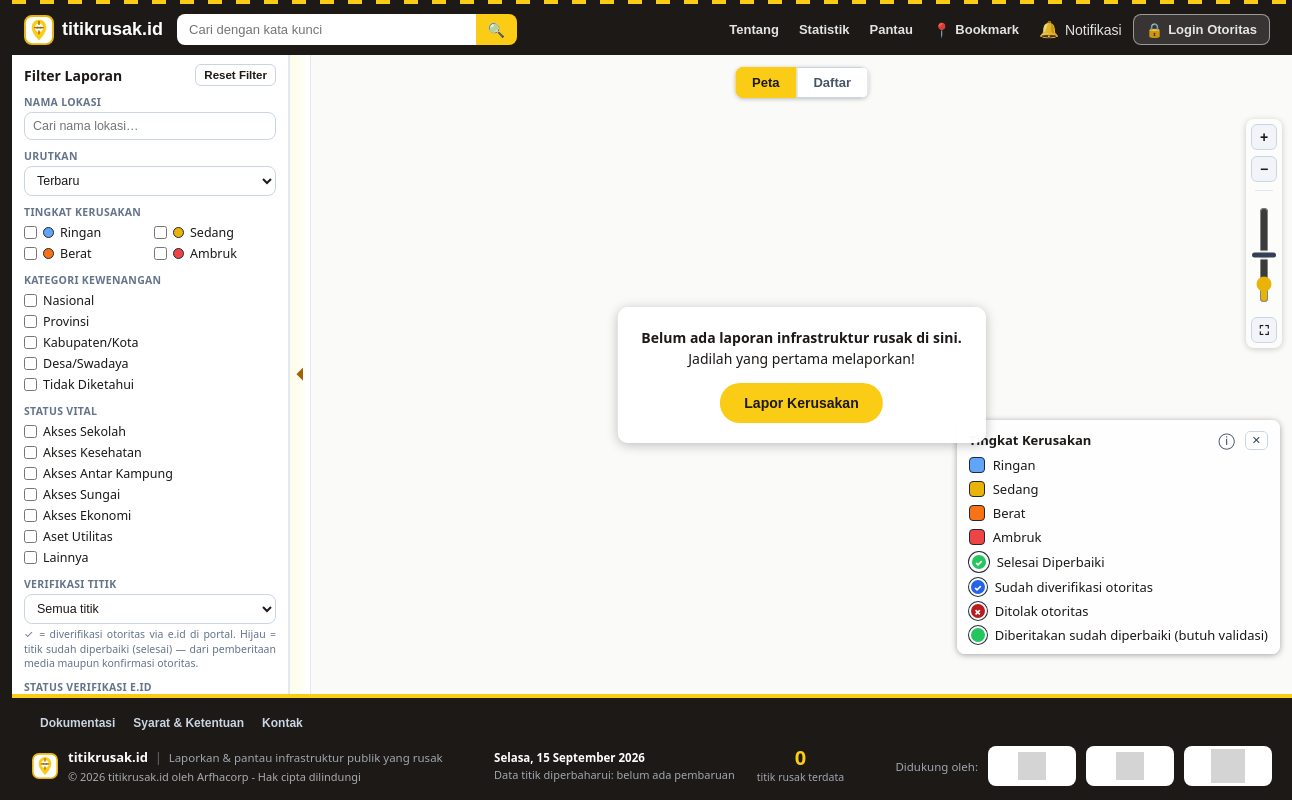
Test: App: alur lapor kerusakan end-to-end › sidebar filter desktop bisa disembunyikan dan dimunculkan lagi
Expected: the heading "Filter Laporan" is shown, [24,66,122,84]
Click the button named "sembunyikan panel filter" at (300, 374), box [289,55,311,694]
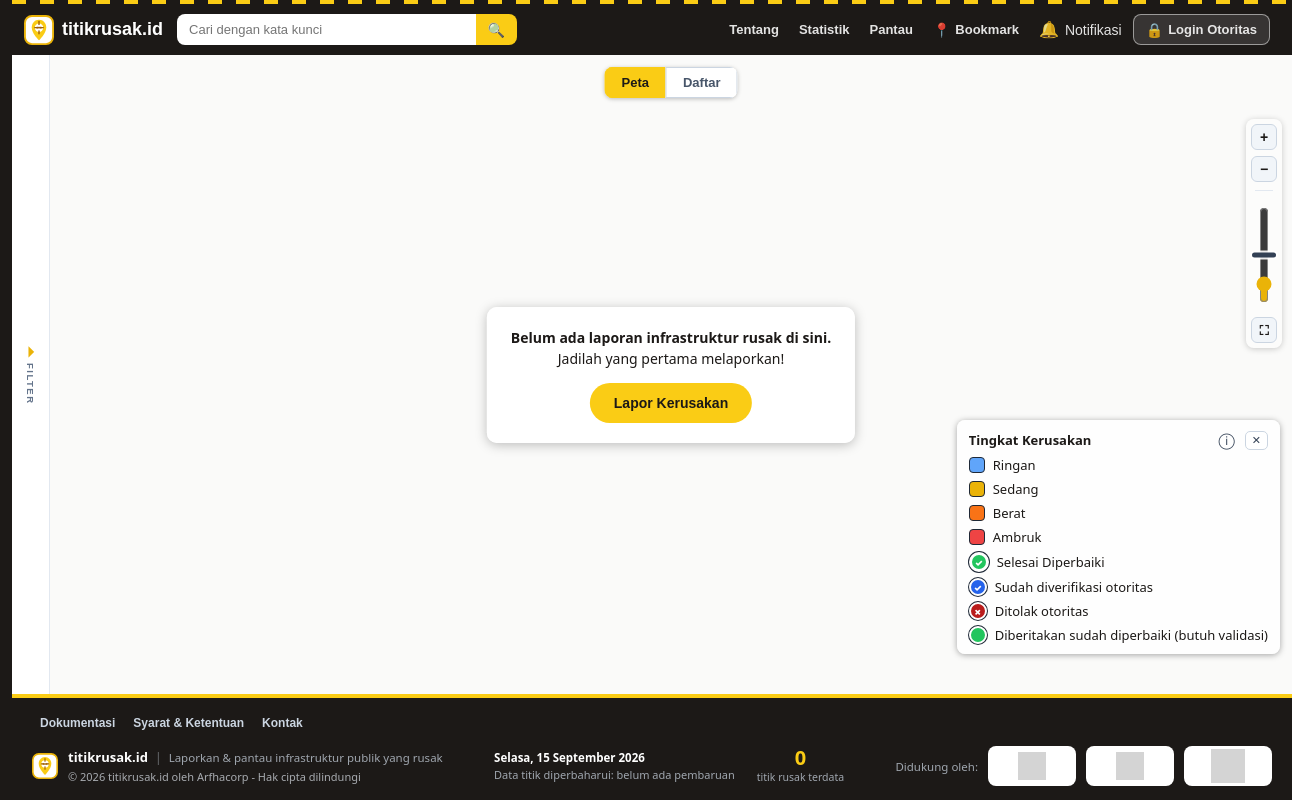
Result: the heading "Filter Laporan" is gone
Click the button with aria-label "tampilkan panel filter" at (31, 374), box [12,55,50,694]
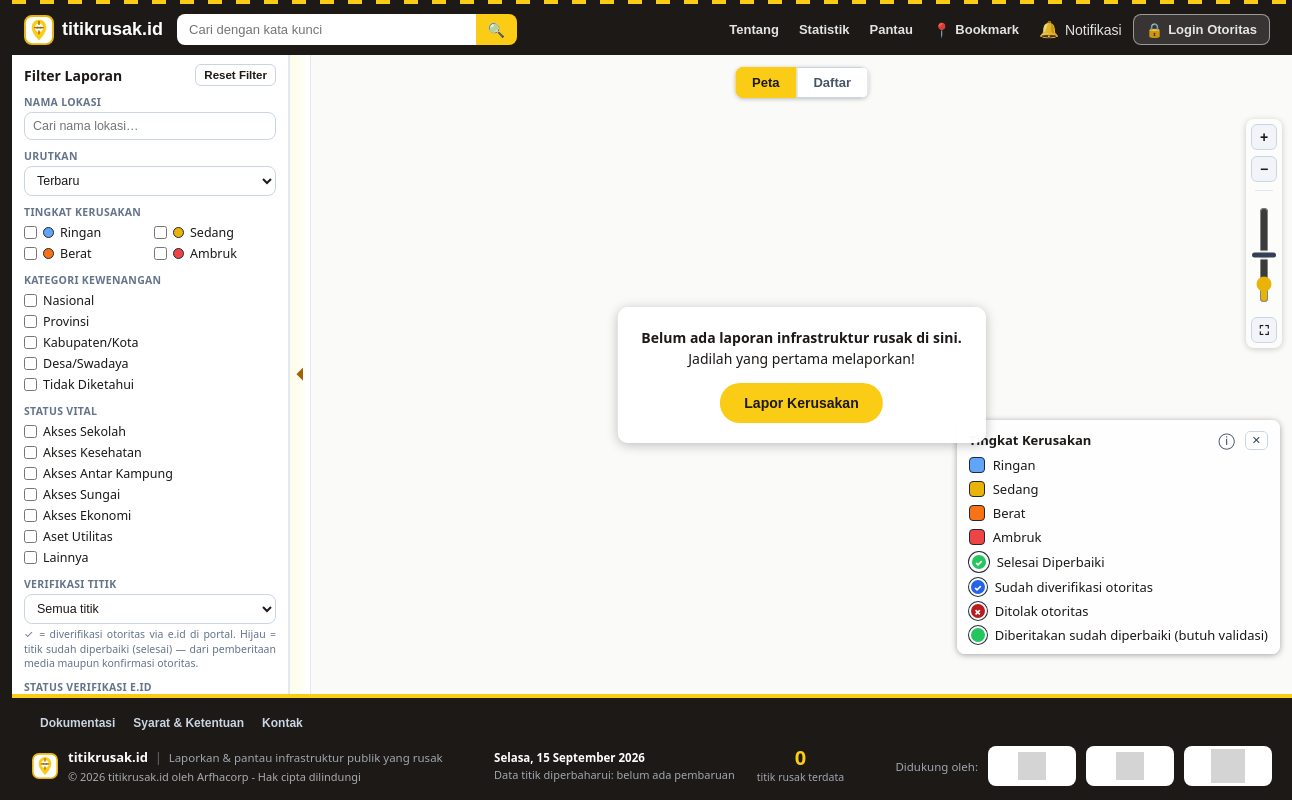
Result: the heading "Filter Laporan" is shown at [24,66,122,84]
